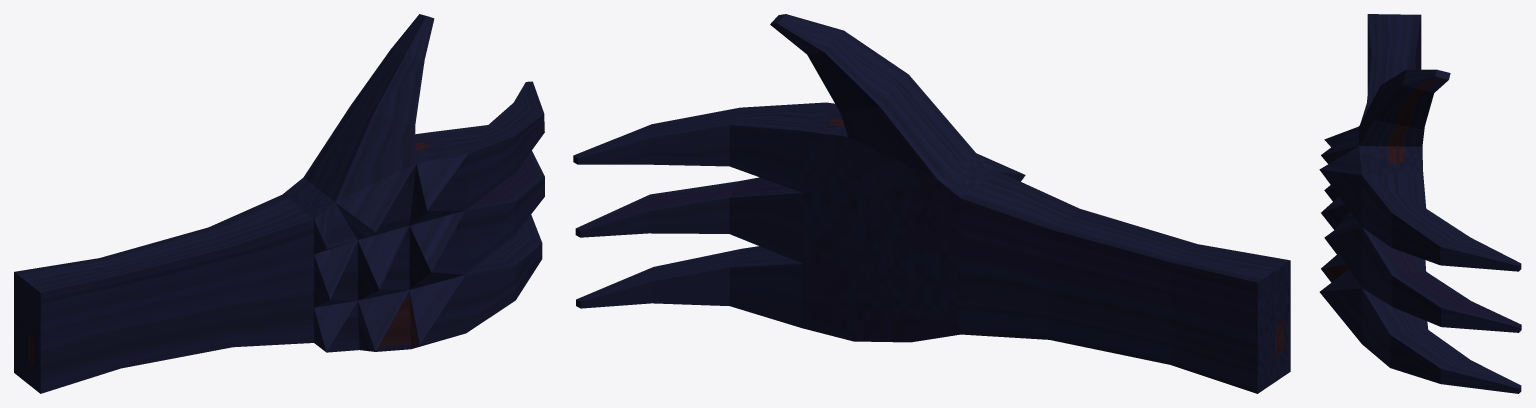
3 renders of one model, left to right at view 1: azimuth 30°, elevation 25°; view 2: azimuth 150°, elevation 25°; view 3: azimuth 270°, elevation 25°, orthographic. The views are drawn at different scales.
Visible parts, largest first — view 1: 立方体.212; view 2: 立方体.212; view 3: 立方体.212.
Part boxes in pixels (x1,y1,x2,y2): 立方体.212: [14, 14, 544, 393]; 立方体.212: [573, 14, 1290, 393]; 立方体.212: [1319, 14, 1521, 393].
Size of the model in its own units: 172 by 83.47 by 55.59.
1 material, 1 textured.
